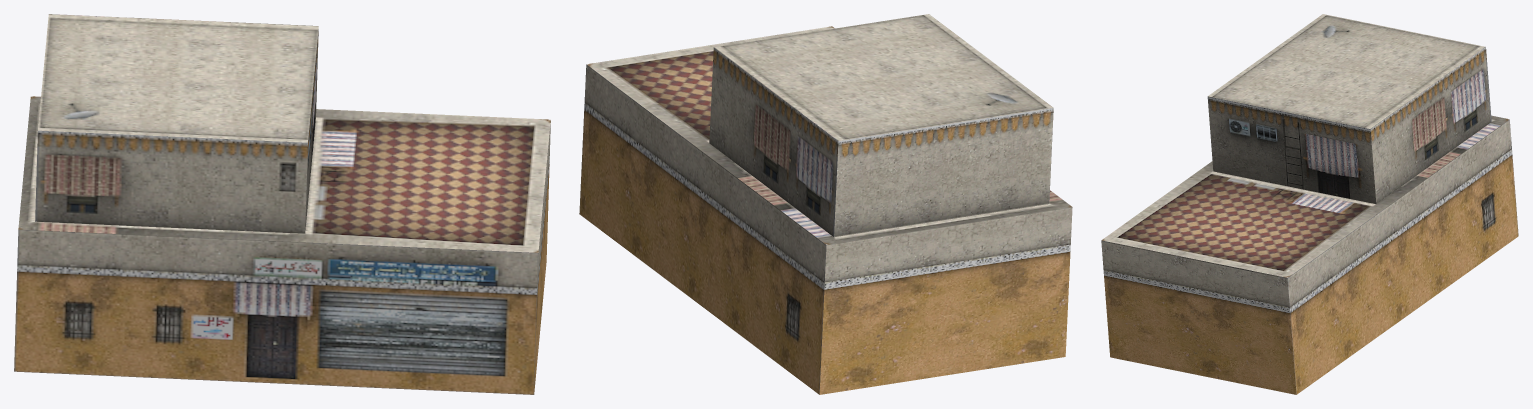
The model's file is house_1lod.fbx.
The picture shows the model from 3 angles, left to right: view 1: azimuth 30°, elevation 25°; view 2: azimuth 150°, elevation 25°; view 3: azimuth 270°, elevation 25°; orthographic projection. The views are drawn at different scales.
Visible parts, largest first — view 1: object; view 2: object; view 3: object.
Boxes of the visible parts, <box> form: object: <box>14,14,550,394</box>; object: <box>579,14,1072,394</box>; object: <box>1101,14,1518,394</box>.
Bounding box in the file's own units: 317 × 159 × 282.
1 material, 1 textured.
